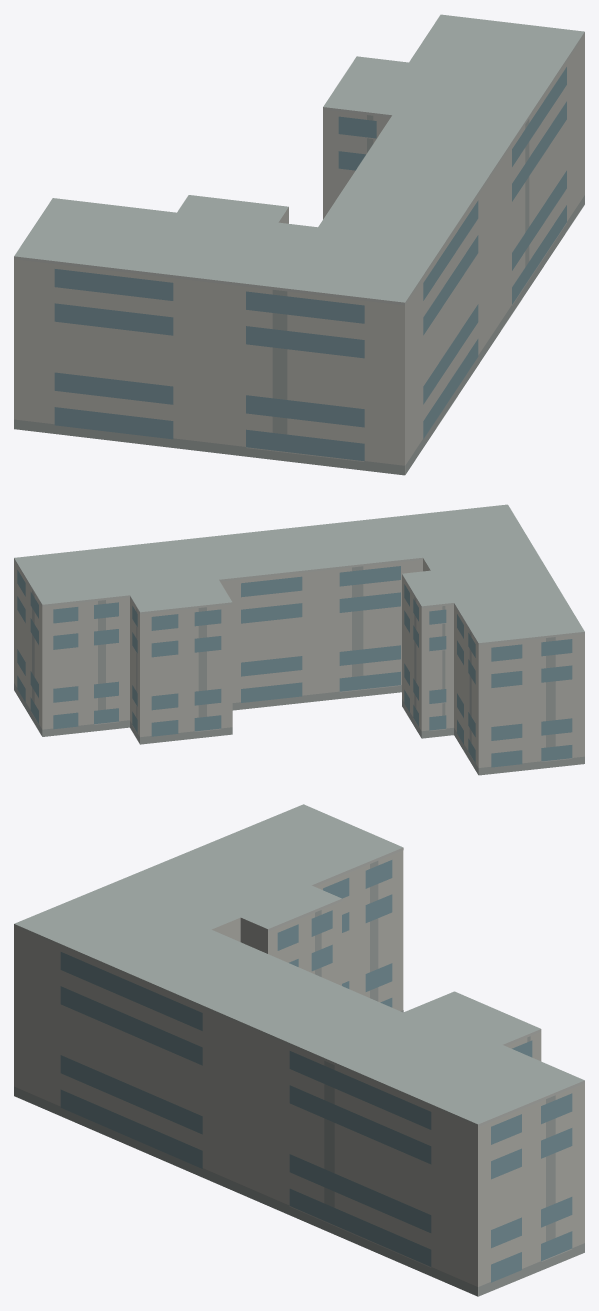
File: residential-e4c5842e-13d8-4520-9bd3-70424714cf6d.glb
The picture shows the model from 3 angles, top to bottom: view 1: azimuth 30°, elevation 25°; view 2: azimuth 150°, elevation 25°; view 3: azimuth 270°, elevation 25°; orthographic projection. The views are drawn at different scales.
Parts seen in each view (by area): view 1: residential-e4c5842e-13d8-4520-9bd3-70424714cf6d.tmp; view 2: residential-e4c5842e-13d8-4520-9bd3-70424714cf6d.tmp; view 3: residential-e4c5842e-13d8-4520-9bd3-70424714cf6d.tmp.
Part boxes in pixels (bbox=[...]): residential-e4c5842e-13d8-4520-9bd3-70424714cf6d.tmp: bbox=[14, 14, 584, 475]; residential-e4c5842e-13d8-4520-9bd3-70424714cf6d.tmp: bbox=[14, 504, 584, 775]; residential-e4c5842e-13d8-4520-9bd3-70424714cf6d.tmp: bbox=[14, 804, 584, 1296].
Size of the model in its own units: 60.81 by 15.25 by 45.82.
